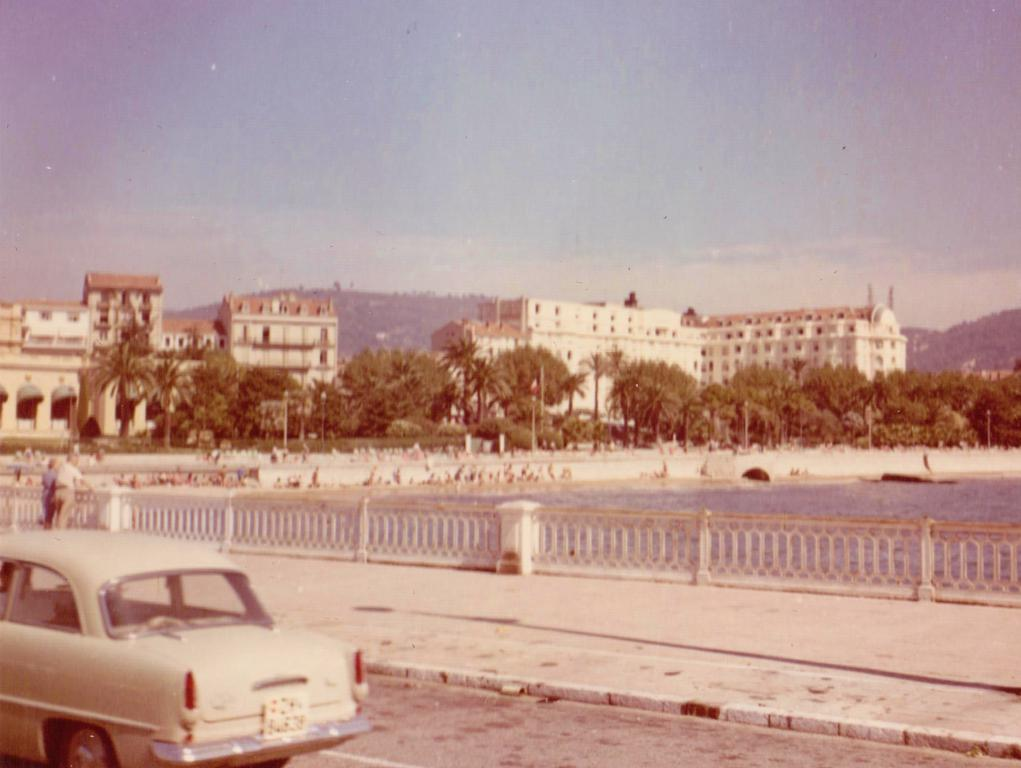Car: (0, 527, 366, 767)
